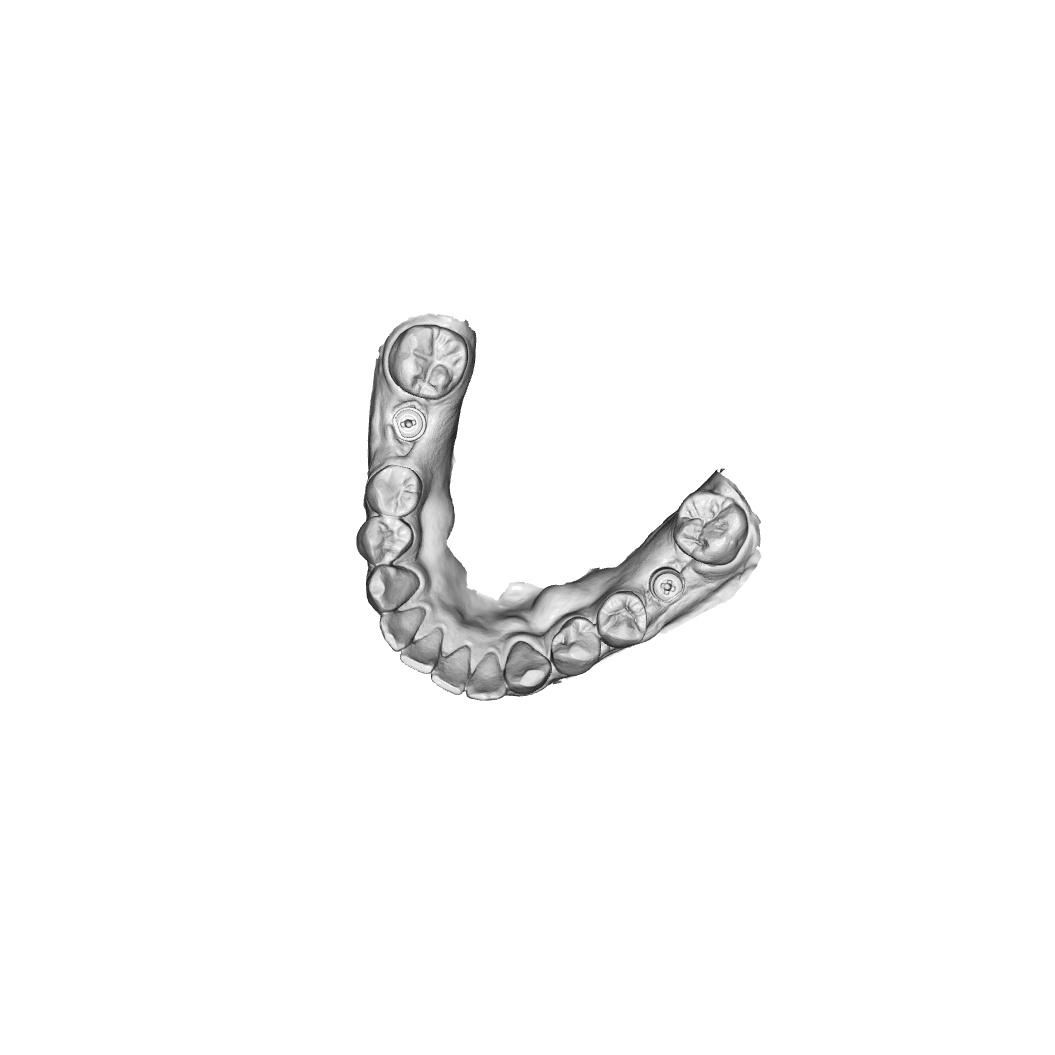canine: (502, 638, 553, 696), (363, 564, 422, 614)
implant_minus: (391, 404, 430, 442)
implant_plus: (647, 565, 687, 607)
incisor: (377, 604, 427, 654), (398, 626, 446, 678), (463, 649, 508, 704), (429, 643, 474, 697)
molar: (386, 320, 470, 400), (672, 487, 752, 569)
premolar: (548, 615, 604, 678), (594, 588, 650, 650), (353, 514, 417, 567), (363, 464, 425, 518)
